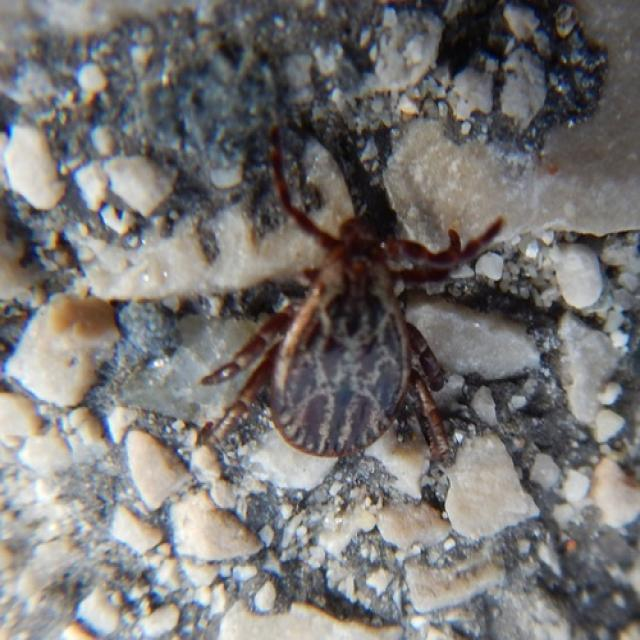Dermacentor Reticulatus-M: (196, 129, 507, 456)
